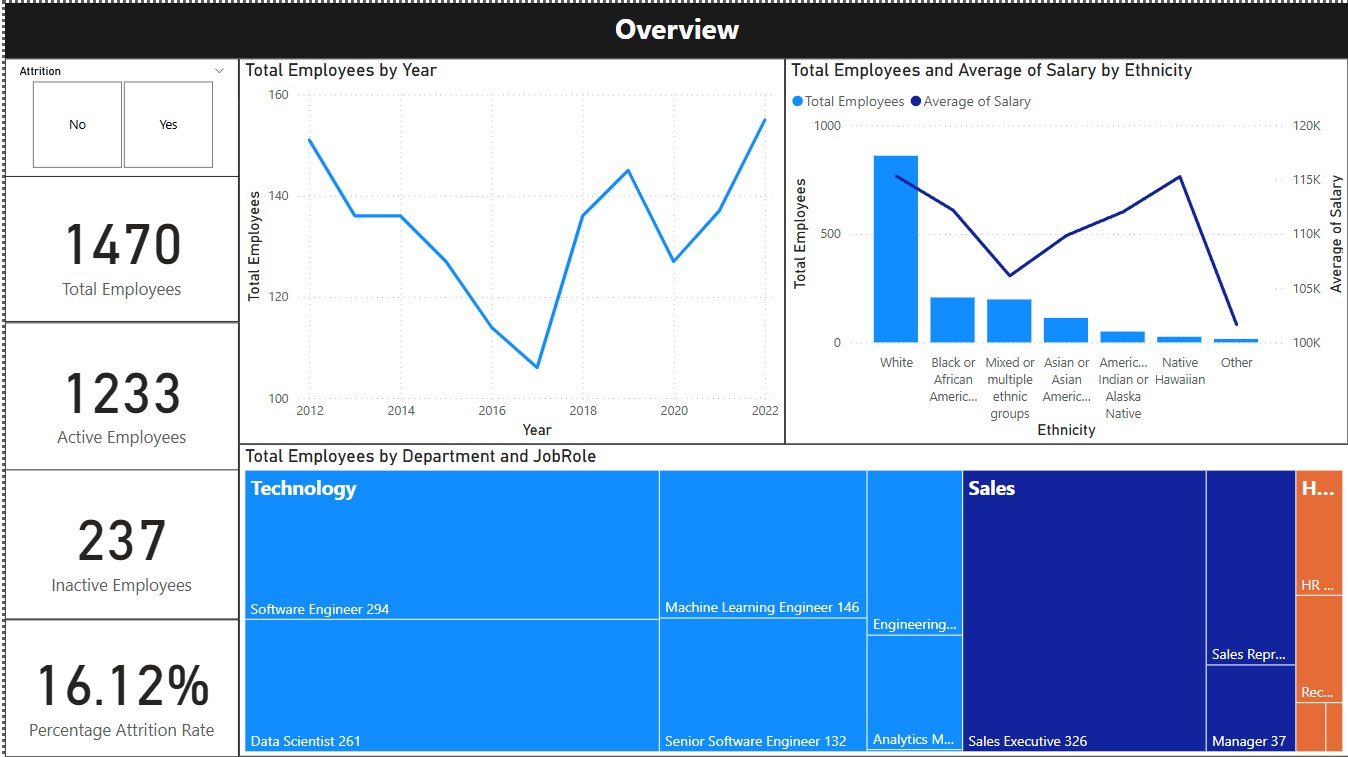

Layout of this report page (visuals, bound fields, positions):
{"tool":"powerbi","page":{"name":"Overview","canvas":[1280,720],"ordinal":0},"visuals":[{"type":"card","fields":{"Values":["_Measures.Total Employees"]},"box":[0,164.5,222.5,139],"z":0},{"type":"card","fields":{"Values":["_Measures.Active Employees"]},"box":[0,303.6,222.5,141.4],"z":1000},{"type":"card","fields":{"Values":["_Measures.Inactive Employees"]},"box":[0,445,222.5,142.5],"z":2000},{"type":"card","fields":{"Values":["_Measures.Percentage Attrition Rate"]},"box":[0,587.5,222.5,132.1],"z":3000},{"type":"lineChart","fields":{"Category":["Dates.Date.Variation.Date Hierarchy.Year","Dates.Date.Variation.Date Hierarchy.Quarter","Dates.Date.Variation.Date Hierarchy.Month","Dates.Date.Variation.Date Hierarchy.Day"],"Y":["_Measures.Total Employees"]},"box":[222.5,52.5,520,367.5],"z":4000},{"type":"treemap","fields":{"Group":["Employee.Department"],"Values":["_Measures.Total Employees"],"Details":["Employee.JobRole"]},"box":[222.5,420.6,1057.9,299],"z":5000},{"type":"lineStackedColumnComboChart","fields":{"Category":["Employee.Ethnicity"],"Y":["_Measures.Total Employees"],"Y2":["Avg(Employee.Salary)"]},"box":[742.5,52.5,537.5,367.5],"z":6000},{"type":"slicer","fields":{"Values":["Employee.Attrition"]},"box":[0,52.5,222.5,112.5],"z":7000},{"type":"textbox","box":[0,0,1280,52.5],"z":8000}]}

Visuals, with their boxes in screenshot pixels (x1, y1, x2, y2), scaled from the page's 1280x720 canvas onto the 1348x757 screenshot:
card - _Measures.Total Employees: crop(0, 173, 234, 319)
card - _Measures.Active Employees: crop(0, 319, 234, 468)
card - _Measures.Inactive Employees: crop(0, 468, 234, 618)
card - _Measures.Percentage Attrition Rate: crop(0, 618, 234, 756)
lineChart - Dates.Date.Variation.Date Hierarchy.Year x Dates.Date.Variation.Date Hierarchy.Quarter: crop(234, 55, 782, 442)
treemap - Employee.Department x _Measures.Total Employees: crop(234, 442, 1347, 756)
lineStackedColumnComboChart - Employee.Ethnicity x _Measures.Total Employees: crop(782, 55, 1347, 442)
slicer - Employee.Attrition: crop(0, 55, 234, 173)
textbox: crop(0, 0, 1347, 55)
